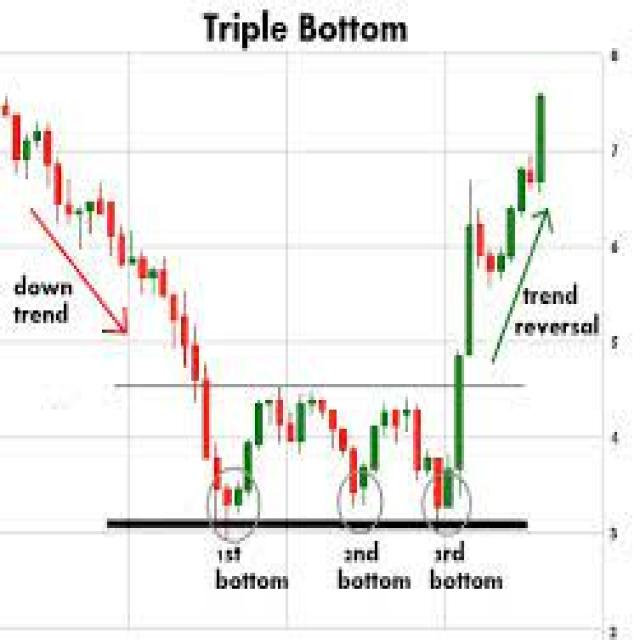Triple-Bottom: (168, 386, 492, 512)
